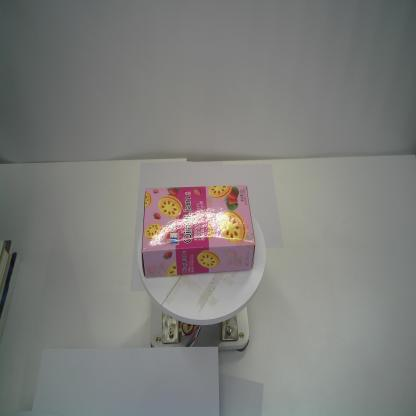Dessert: (140, 182, 258, 279)
